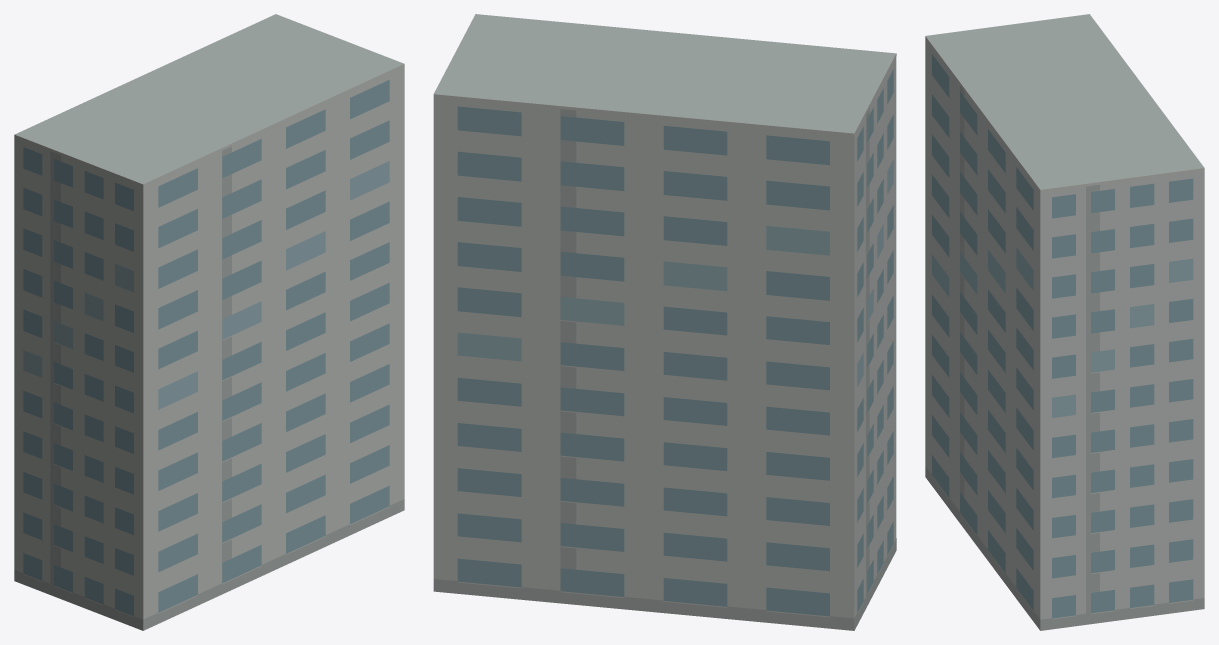
The model's file is residential-00881789-c78a-4dc6-8b7f-6605674905b6.glb.
3 renders of one model, left to right at view 1: azimuth 30°, elevation 25°; view 2: azimuth 150°, elevation 25°; view 3: azimuth 270°, elevation 25°, orthographic. The views are drawn at different scales.
Parts seen in each view (by area): view 1: residential-00881789-c78a-4dc6-8b7f-6605674905b6.tmp; view 2: residential-00881789-c78a-4dc6-8b7f-6605674905b6.tmp; view 3: residential-00881789-c78a-4dc6-8b7f-6605674905b6.tmp.
Part boxes in pixels (left/top/right/bottom): residential-00881789-c78a-4dc6-8b7f-6605674905b6.tmp: left=14, top=14, right=404, bottom=630; residential-00881789-c78a-4dc6-8b7f-6605674905b6.tmp: left=433, top=14, right=896, bottom=630; residential-00881789-c78a-4dc6-8b7f-6605674905b6.tmp: left=925, top=14, right=1204, bottom=630.
Bounding box in the file's own units: 34.24 × 40 × 22.98.
